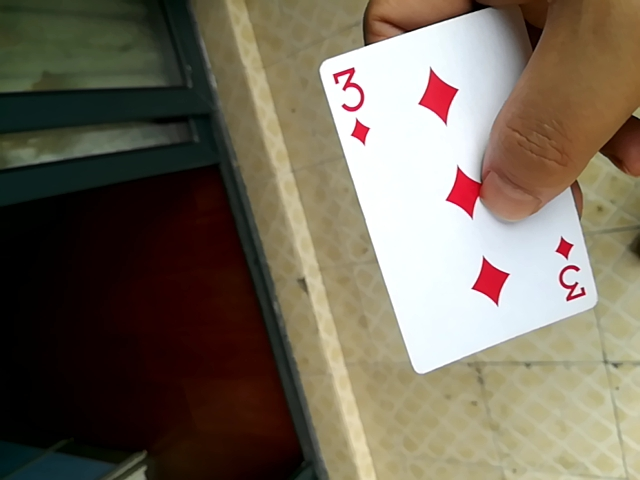fk 3: (313, 11, 594, 389)
